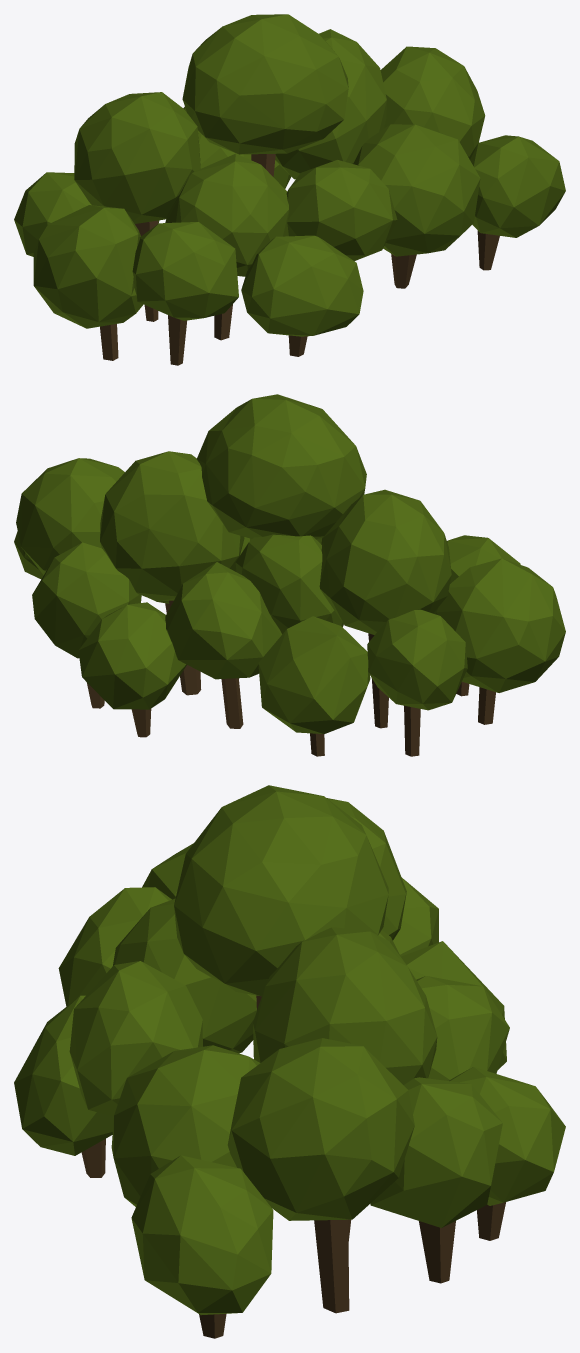
The model's file is TreesAndBushes_017.fbx.
The picture shows the model from 3 angles, top to bottom: view 1: azimuth 30°, elevation 25°; view 2: azimuth 150°, elevation 25°; view 3: azimuth 270°, elevation 25°; orthographic projection. The views are drawn at different scales.
Parts seen in each view (by area): view 1: TreesAndBushes_017; view 2: TreesAndBushes_017; view 3: TreesAndBushes_017.
Boxes of the visible parts, bbox=[...] form: TreesAndBushes_017: bbox=[14, 14, 565, 365]; TreesAndBushes_017: bbox=[14, 394, 565, 756]; TreesAndBushes_017: bbox=[14, 785, 565, 1338].
Size of the model in its own units: 117 by 61.07 by 75.93.
